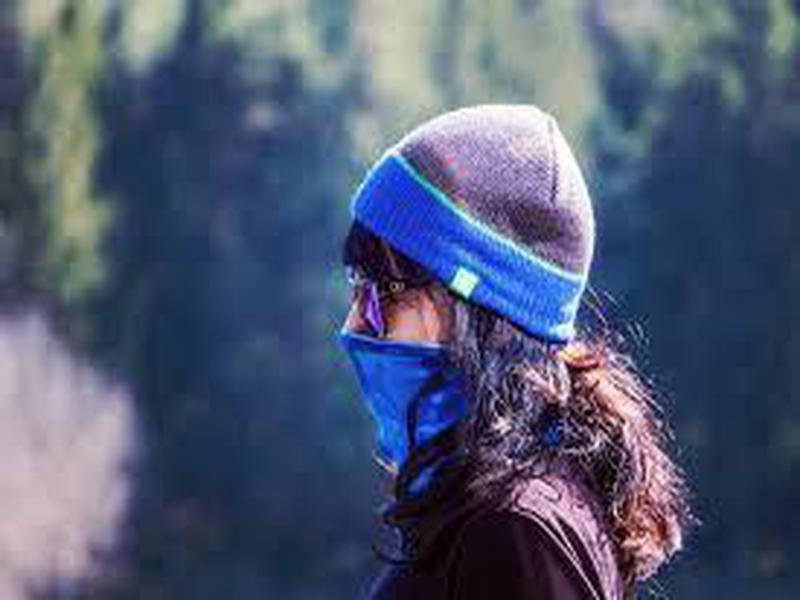with_mask: (335, 102, 598, 483)
